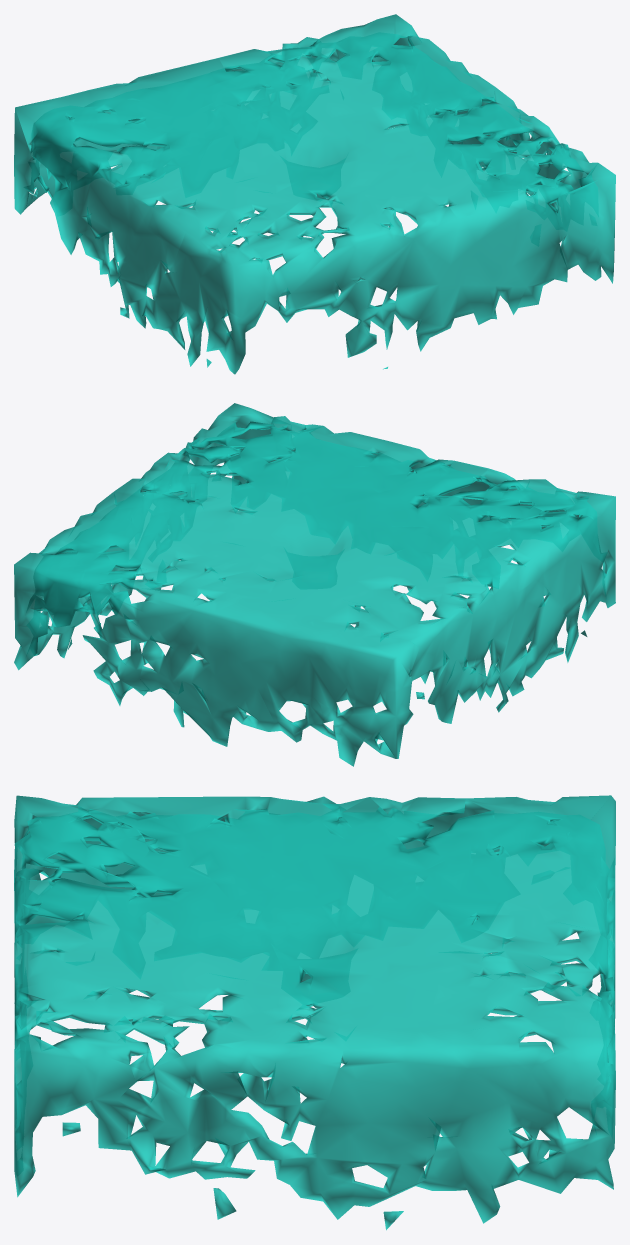
3 renders of one model, top to bottom at view 1: azimuth 30°, elevation 25°; view 2: azimuth 150°, elevation 25°; view 3: azimuth 270°, elevation 25°, orthographic. The views are drawn at different scales.
Visible parts, largest first — view 1: Liquid_Domain; view 2: Liquid_Domain; view 3: Liquid_Domain.
Boxes of the visible parts, bbox=[...] form: Liquid_Domain: bbox=[14, 14, 615, 374]; Liquid_Domain: bbox=[14, 403, 615, 766]; Liquid_Domain: bbox=[14, 795, 615, 1230].
Size of the model in its own units: 391 by 137 by 391.
